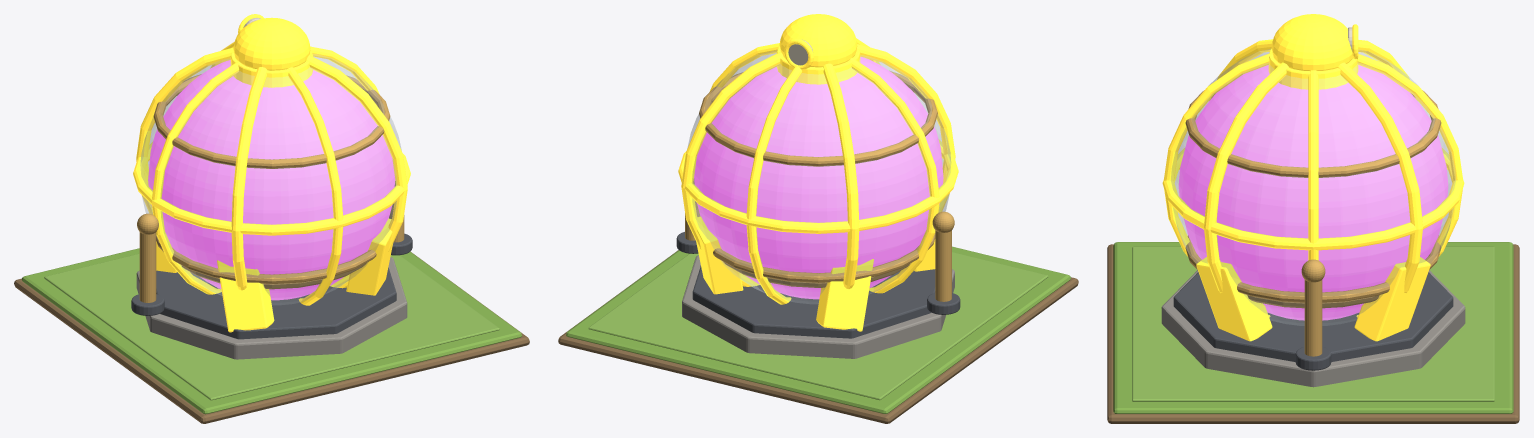
File: elixir_storage_lv4.glb
The picture shows the model from 3 angles, left to right: view 1: azimuth 30°, elevation 25°; view 2: azimuth 150°, elevation 25°; view 3: azimuth 270°, elevation 25°; orthographic projection. The views are drawn at different scales.
Visible parts, largest first — view 1: GlassOrb, ElixirCore, Base_Inner, Base_Grass, OctagonalReinforcedBase, StandPlinth, Base_Dirt, GoldenRib_1, EquatorialBrassBand, MeridianBand1, TopPressureDome, UpperTropicsBand (+9 smaller); view 2: GlassOrb, ElixirCore, Base_Inner, Base_Grass, OctagonalReinforcedBase, StandPlinth, Base_Dirt, GoldenRib_0, EquatorialBrassBand, MeridianBand1, UpperTropicsBand, TopPressureDome (+9 smaller); view 3: GlassOrb, ElixirCore, Base_Inner, Base_Grass, OctagonalReinforcedBase, StandPlinth, Base_Dirt, MeridianBand2, EquatorialBrassBand, TopPressureDome, GoldenRib_0, GoldenRib_1 (+10 smaller).
Part boxes in pixels (bbox=[...]): GlassOrb: bbox=[140, 54, 401, 304]; ElixirCore: bbox=[148, 60, 395, 300]; Base_Inner: bbox=[44, 253, 499, 400]; Base_Grass: bbox=[21, 248, 521, 414]; OctagonalReinforcedBase: bbox=[156, 267, 396, 339]; StandPlinth: bbox=[136, 257, 407, 359]; Base_Dirt: bbox=[14, 251, 529, 423]; GoldenRib_1: bbox=[136, 47, 407, 288]; EquatorialBrassBand: bbox=[133, 142, 410, 235]; MeridianBand1: bbox=[152, 46, 379, 294]; TopPressureDome: bbox=[233, 17, 310, 70]; UpperTropicsBand: bbox=[153, 74, 390, 168]; GlassOrb: bbox=[687, 50, 950, 303]; ElixirCore: bbox=[694, 56, 943, 299]; Base_Inner: bbox=[588, 252, 1048, 400]; Base_Grass: bbox=[566, 246, 1070, 413]; OctagonalReinforcedBase: bbox=[692, 266, 935, 338]; StandPlinth: bbox=[682, 255, 954, 358]; Base_Dirt: bbox=[558, 250, 1078, 423]; GoldenRib_0: bbox=[681, 44, 955, 286]; EquatorialBrassBand: bbox=[678, 139, 958, 233]; MeridianBand1: bbox=[700, 43, 939, 293]; UpperTropicsBand: bbox=[699, 71, 937, 166]; TopPressureDome: bbox=[779, 14, 857, 67]; GlassOrb: bbox=[1171, 49, 1455, 325]; ElixirCore: bbox=[1178, 65, 1448, 320]; Base_Inner: bbox=[1132, 246, 1494, 401]; Base_Grass: bbox=[1113, 242, 1513, 413]; OctagonalReinforcedBase: bbox=[1173, 272, 1453, 361]; StandPlinth: bbox=[1161, 270, 1465, 387]; Base_Dirt: bbox=[1107, 244, 1519, 423]; MeridianBand2: bbox=[1164, 52, 1462, 256]; EquatorialBrassBand: bbox=[1162, 148, 1464, 250]; TopPressureDome: bbox=[1271, 14, 1352, 70]; GoldenRib_0: bbox=[1209, 39, 1422, 317]; GoldenRib_1: bbox=[1204, 40, 1417, 317].
Bounding box in the file's own units: 2.76 × 2.36 × 2.76.
